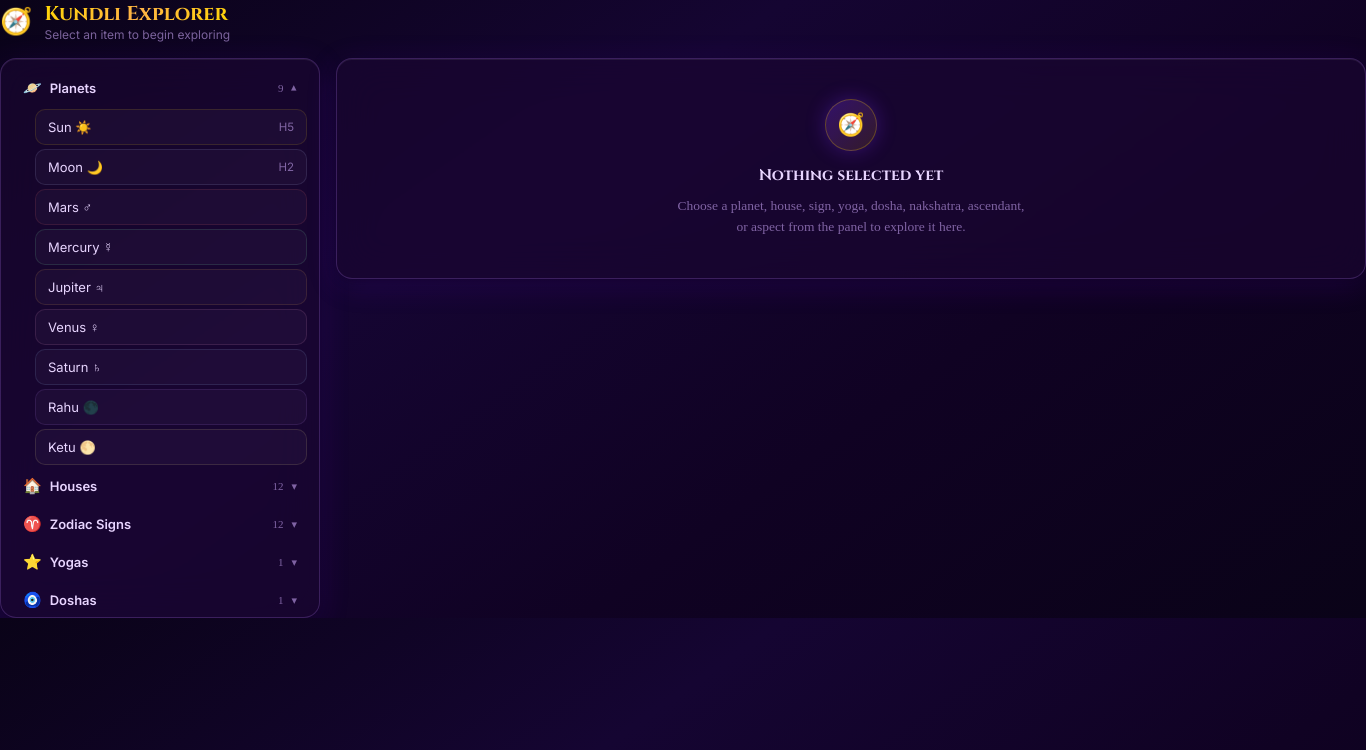
Test: Explorer selection state › selecting a planet item updates the header breadcrumb and loads its detail panel
Click the list item "Sun ☀️ H5" at (70, 127), box [35,109,307,145]
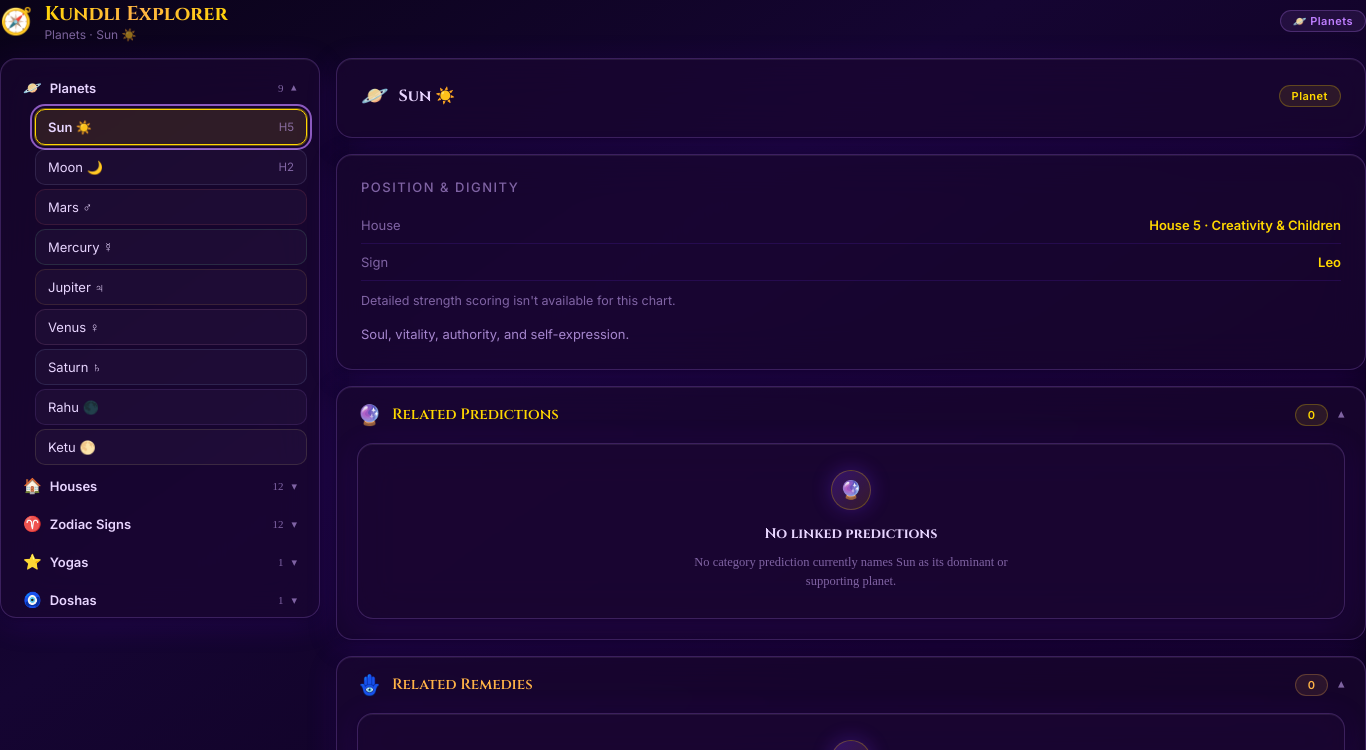
expect the text "Planets · Sun ☀️" is shown: met, box [44,27,136,42]
expect the heading "Sun ☀️" is shown: met, box [398,85,455,107]
